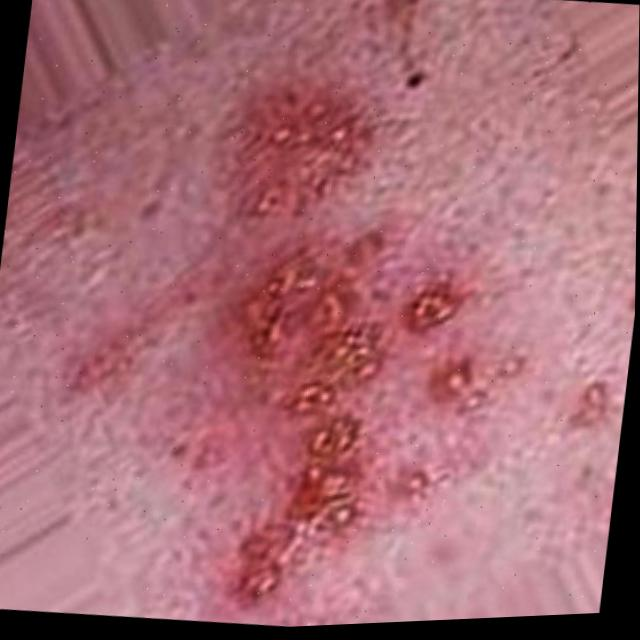Shingles: (158, 60, 552, 633)
